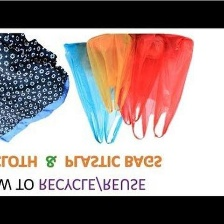plastic_bag: (59, 40, 142, 151), (129, 34, 197, 141), (114, 29, 165, 126), (85, 32, 133, 117)
